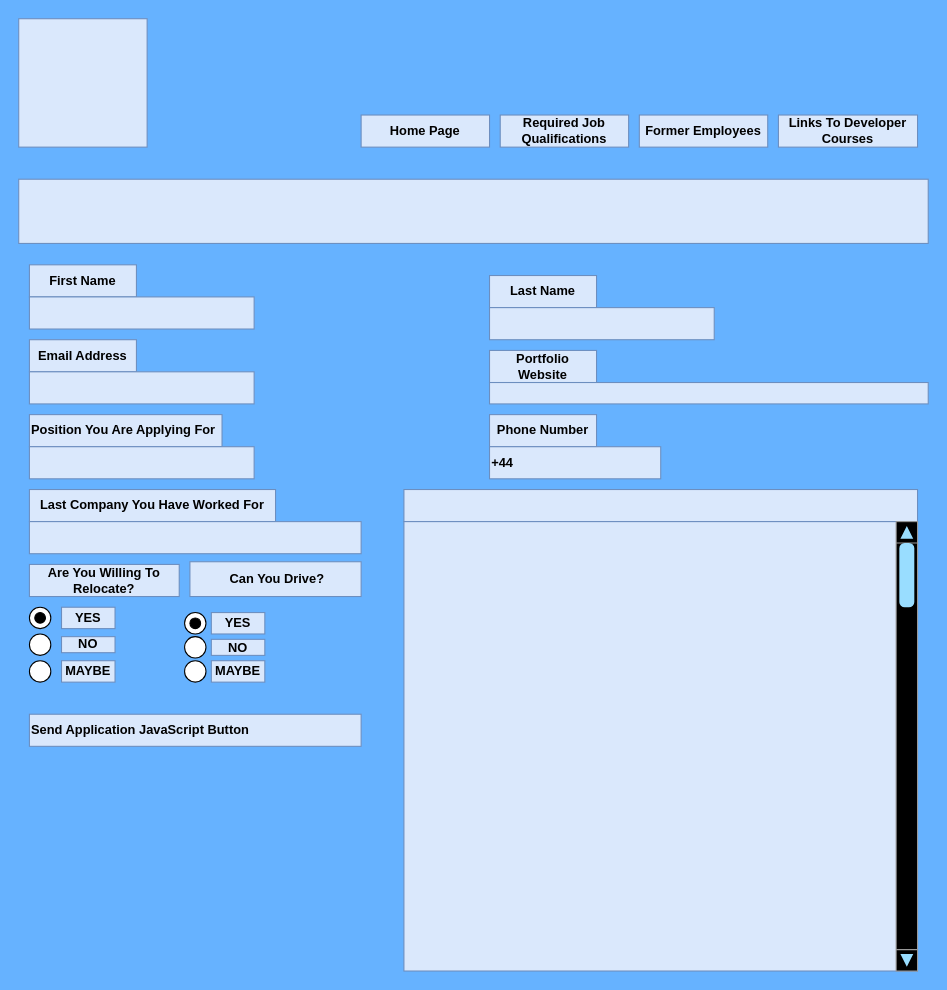
Image size: 947x990. Some labels were removed from this diagram. The shapes that lost their labels are listed below. From the top down, each one's box as (x1, y1, x2, y2) in pixels, then its label:
(18, 18, 147, 147): Logo
(18, 178, 928, 243): Application Form
(488, 381, 928, 404): http://
(403, 488, 918, 522): Reference/Comments/Questions
